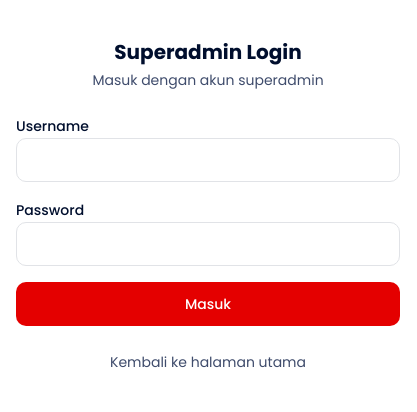
SuperadminSection - login gate › shows wrong credentials error when login returns non-ok
Type "admin" into the field labelled "Username".
click(208, 160); type("admin")  # box [16,138,400,182]
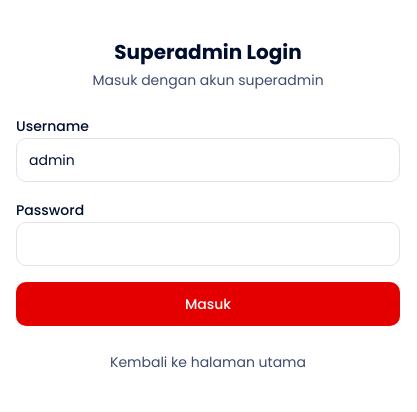
Type "wrong" into the password field labelled "Password".
click(208, 244); type("wrong")  # box [16,222,400,266]
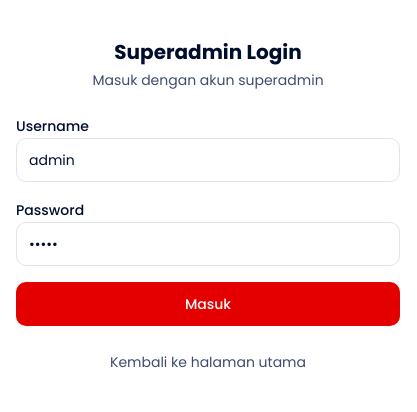
Submit the form "Masuk", box [16,114,400,326]
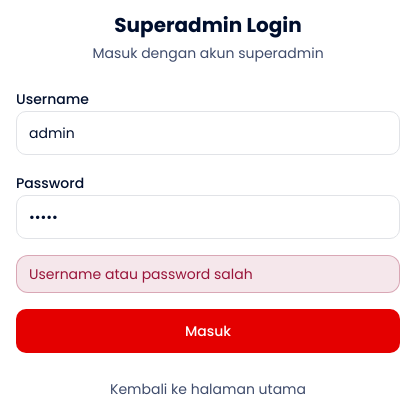
expect the text "Username atau password salah" is shown: met, box [29,264,253,284]
